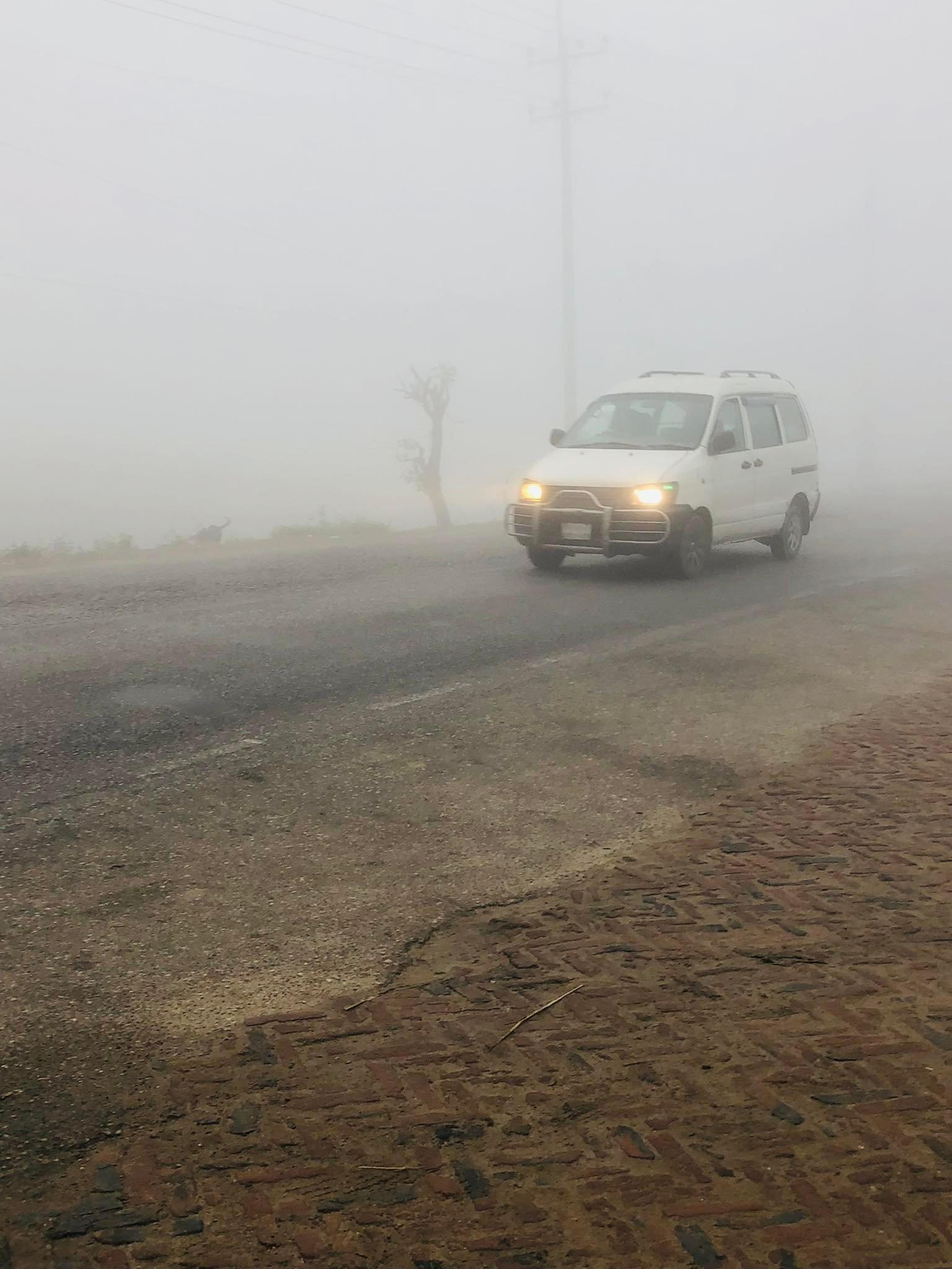Car: (493, 336, 842, 592)
